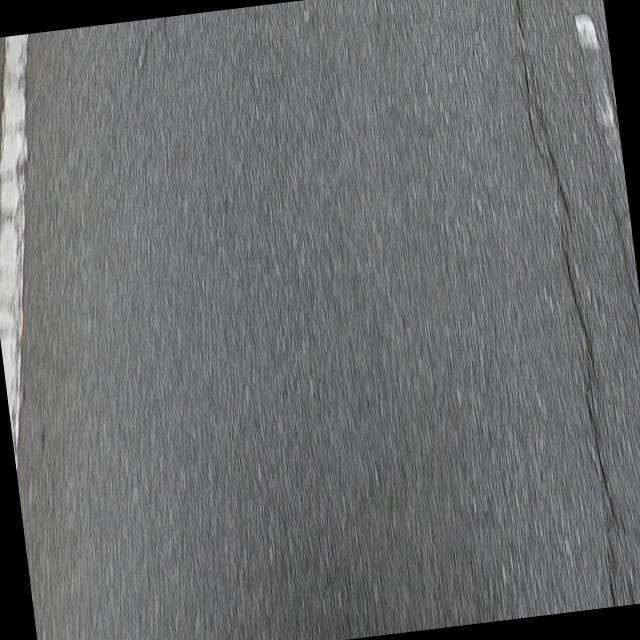Retak-Memanjang: (510, 0, 620, 608)
